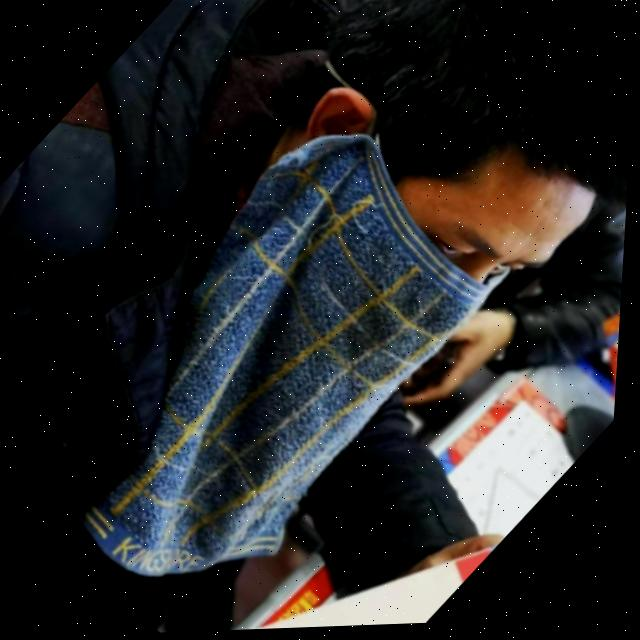Mask: (202, 56, 567, 408)
